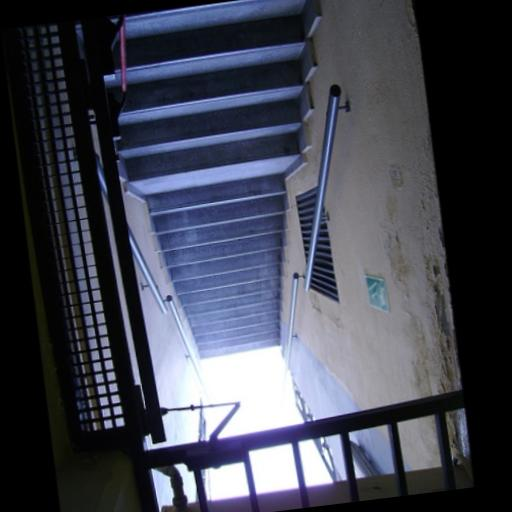stairs: (117, 0, 304, 356)
